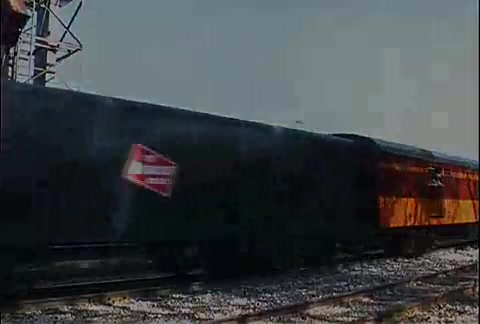train: (1, 2, 480, 291)
